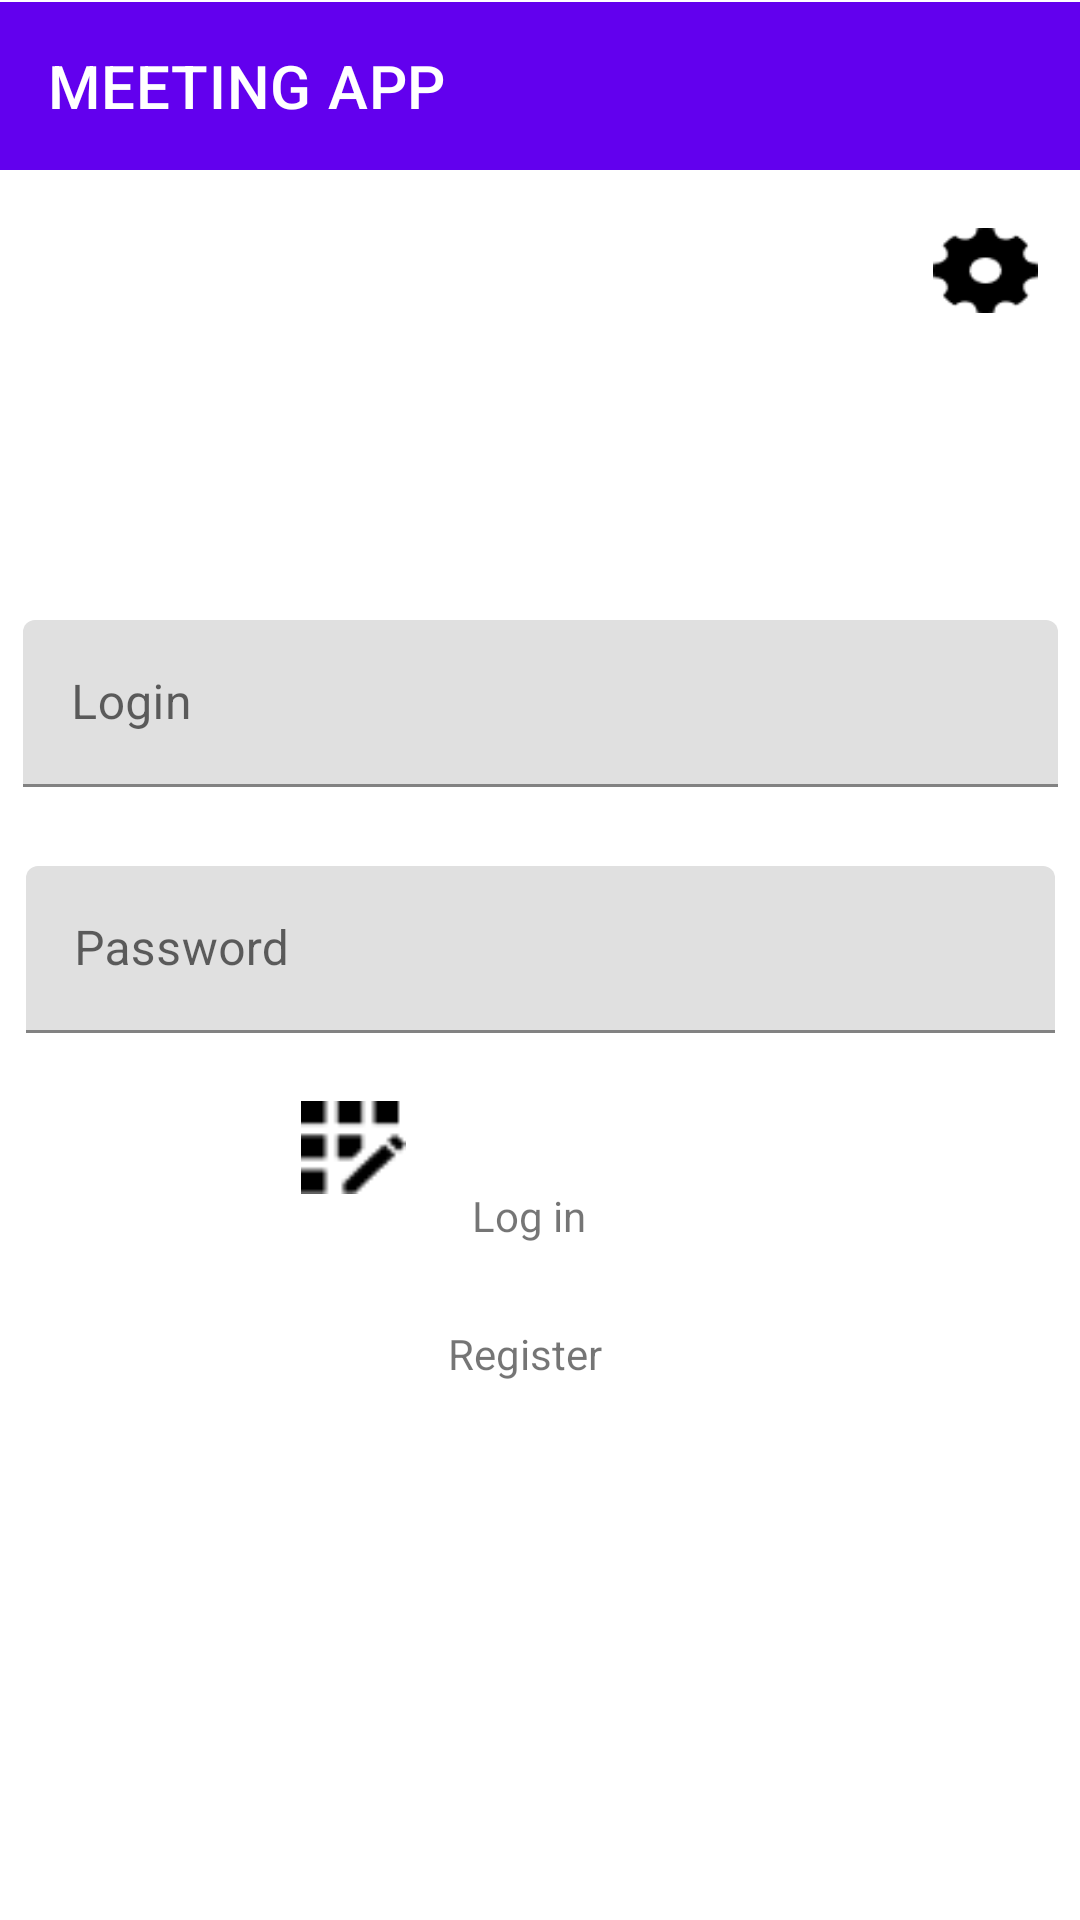

Where to tap for icons on this 1080w x 1920h app screen, as (x,y):
settings: (985,270)
